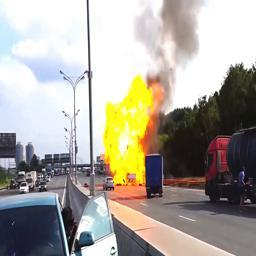fire: (103, 75, 152, 185)
